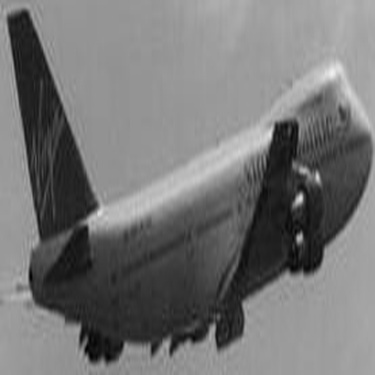airplane: (7, 4, 367, 373)
